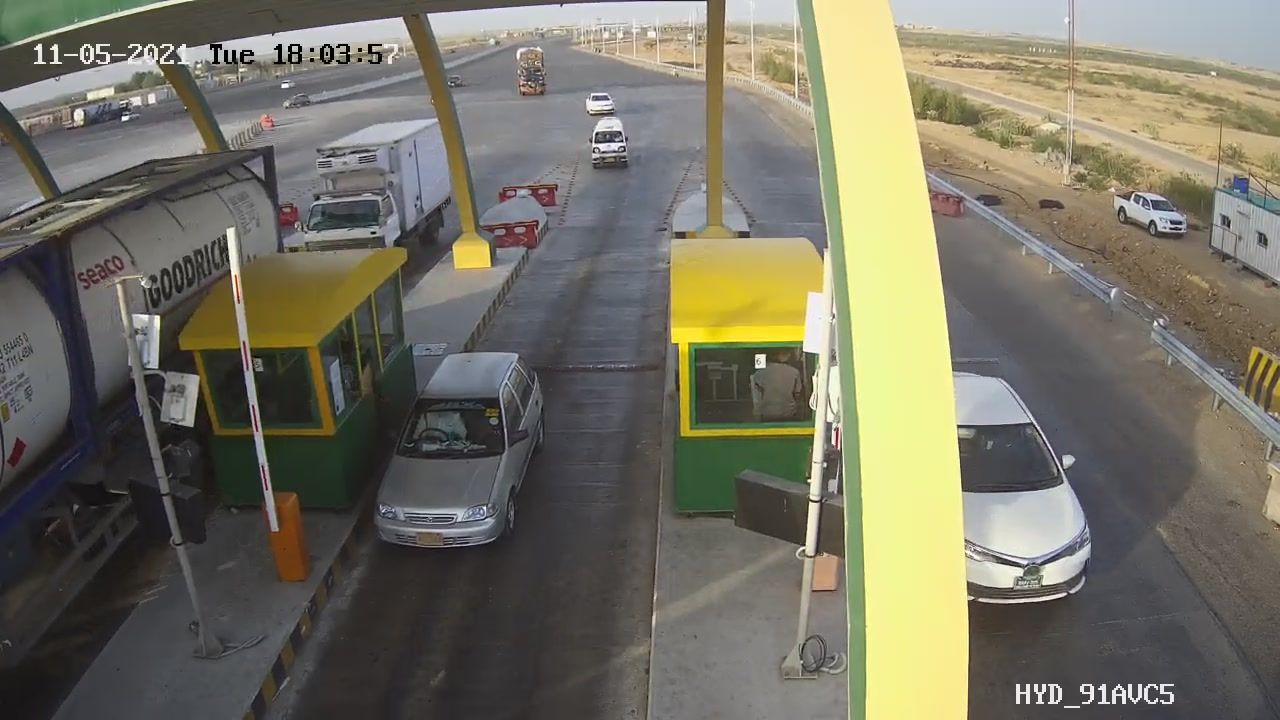F1: (350, 331, 561, 569)
